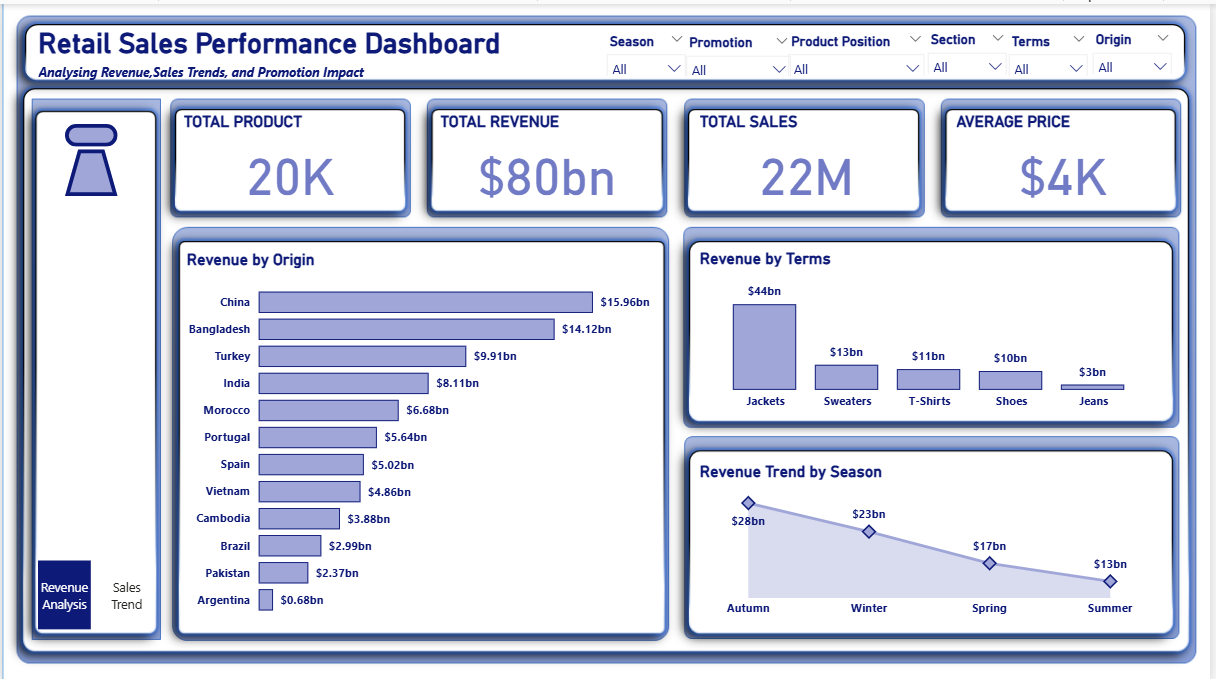

Layout of this report page (visuals, bound fields, positions):
{"tool":"powerbi","page":{"name":"Revenue Analysis ","canvas":[1280,720],"ordinal":0},"visuals":[{"type":"card","title":"TOTAL PRODUCT","fields":{"Values":["Table1.Total Product"]},"box":[187.7,114.5,235.4,103.4],"z":0},{"type":"card","title":"TOTAL REVENUE","fields":{"Values":["Table1.Total Revenue"]},"box":[459.7,114.5,235.4,103.4],"z":1000},{"type":"card","title":"TOTAL SALES","fields":{"Values":["Table1.Total Sales Volume"]},"box":[734.9,114.5,235.4,103.4],"z":2000},{"type":"card","title":"AVERAGE PRICE","fields":{"Values":["Table1.Avg Price"]},"box":[1006.9,114.5,235.4,103.4],"z":3000},{"type":"lineChart","title":" Revenue Trend by Season","fields":{"Category":["Table1.Season"],"Y":["Sum(Table1.Revnue)"]},"box":[734.9,485.1,496.3,173.4],"z":4000},{"type":"columnChart","title":"Revenue by Terms","fields":{"Category":["Table1.Terms"],"Y":["Sum(Table1.Revnue)"]},"box":[735.1,258.9,497,179.5],"z":5000},{"type":"barChart","title":"Revenue by Origin","fields":{"Category":["Table1.Origin"],"Y":["Sum(Table1.Revnue)"]},"box":[190.9,260.8,504.6,398.7],"z":6000},{"type":"shape","box":[66.8,154.3,55.7,49.3],"z":7000},{"type":"shape","box":[66.8,127.2,55.7,23.9],"z":8000},{"type":"textbox","title":"Retail Sales Performance Dashboard","box":[33.4,23.9,512.2,65.2],"z":8001},{"type":"slicer","fields":{"Values":["Table1.Season"]},"box":[631.5,25.4,103.4,50.9],"z":8002},{"type":"slicer","fields":{"Values":["Table1.Promotion"]},"box":[715.8,27,130.4,50.9],"z":8003},{"type":"slicer","fields":{"Values":["Table1.Product Position"]},"box":[823.9,25.4,163.8,50.9],"z":8004},{"type":"slicer","fields":{"Values":["Table1.Section"]},"box":[971.9,23.9,103.4,50.9],"z":8005},{"type":"slicer","fields":{"Values":["Table1.Terms"]},"box":[1057.8,25.4,103.4,50.9],"z":8006},{"type":"slicer","fields":{"Values":["Table1.Origin"]},"box":[1146.8,23.9,103.4,50.9],"z":8007},{"type":"pageNavigator","box":[38.2,590.1,122.5,73.2],"z":8008}]}

Visuals, with their boxes in screenshot pixels (x1, y1, x2, y2), scaled from the page's 1280x720 canvas onto the 1216x679 screenshot:
"TOTAL PRODUCT" card: 178 108 402 205
"TOTAL REVENUE" card: 437 108 660 205
"TOTAL SALES" card: 698 108 922 205
"AVERAGE PRICE" card: 957 108 1180 205
" Revenue Trend by Season" lineChart: 698 457 1170 621
"Revenue by Terms" columnChart: 698 244 1170 413
"Revenue by Origin" barChart: 181 246 661 622
shape: 63 146 116 192
shape: 63 120 116 142
"Retail Sales Performance Dashboard" textbox: 32 23 518 84
slicer - Table1.Season: 600 24 698 72
slicer - Table1.Promotion: 680 25 804 73
slicer - Table1.Product Position: 783 24 938 72
slicer - Table1.Section: 923 23 1022 71
slicer - Table1.Terms: 1005 24 1103 72
slicer - Table1.Origin: 1089 23 1188 71
pageNavigator: 36 556 153 626
